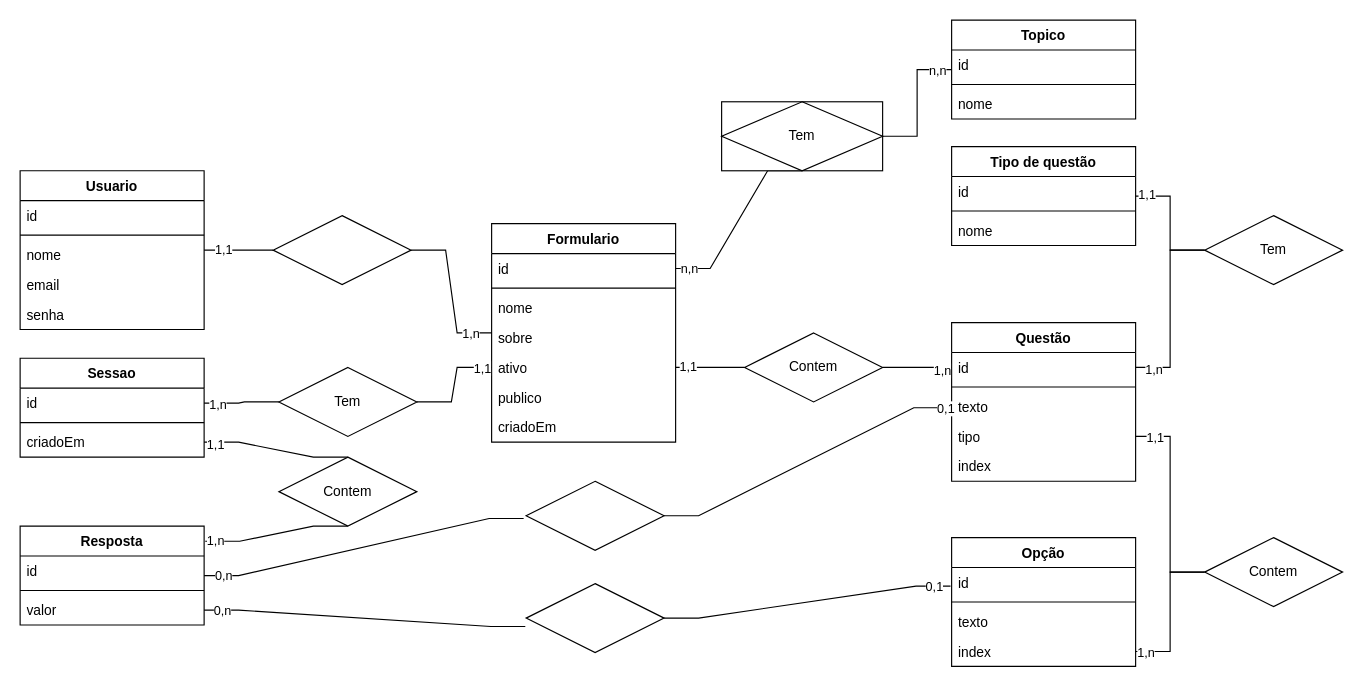
The diagram is 1363 pixels wide and 690 high, and some of its shapes have lost their labels. The centre of each missing label's shape, as x and y in pixels:
Da: point 594,515
Possui: point 341,249
Seleciona: point 594,617
